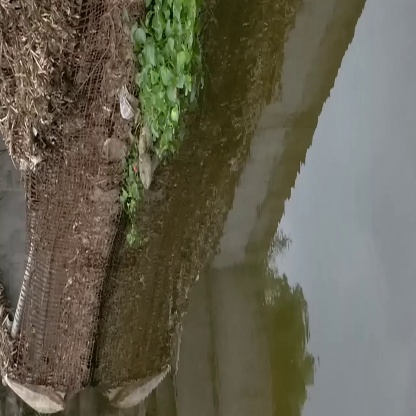grass: (143, 7, 198, 141)
